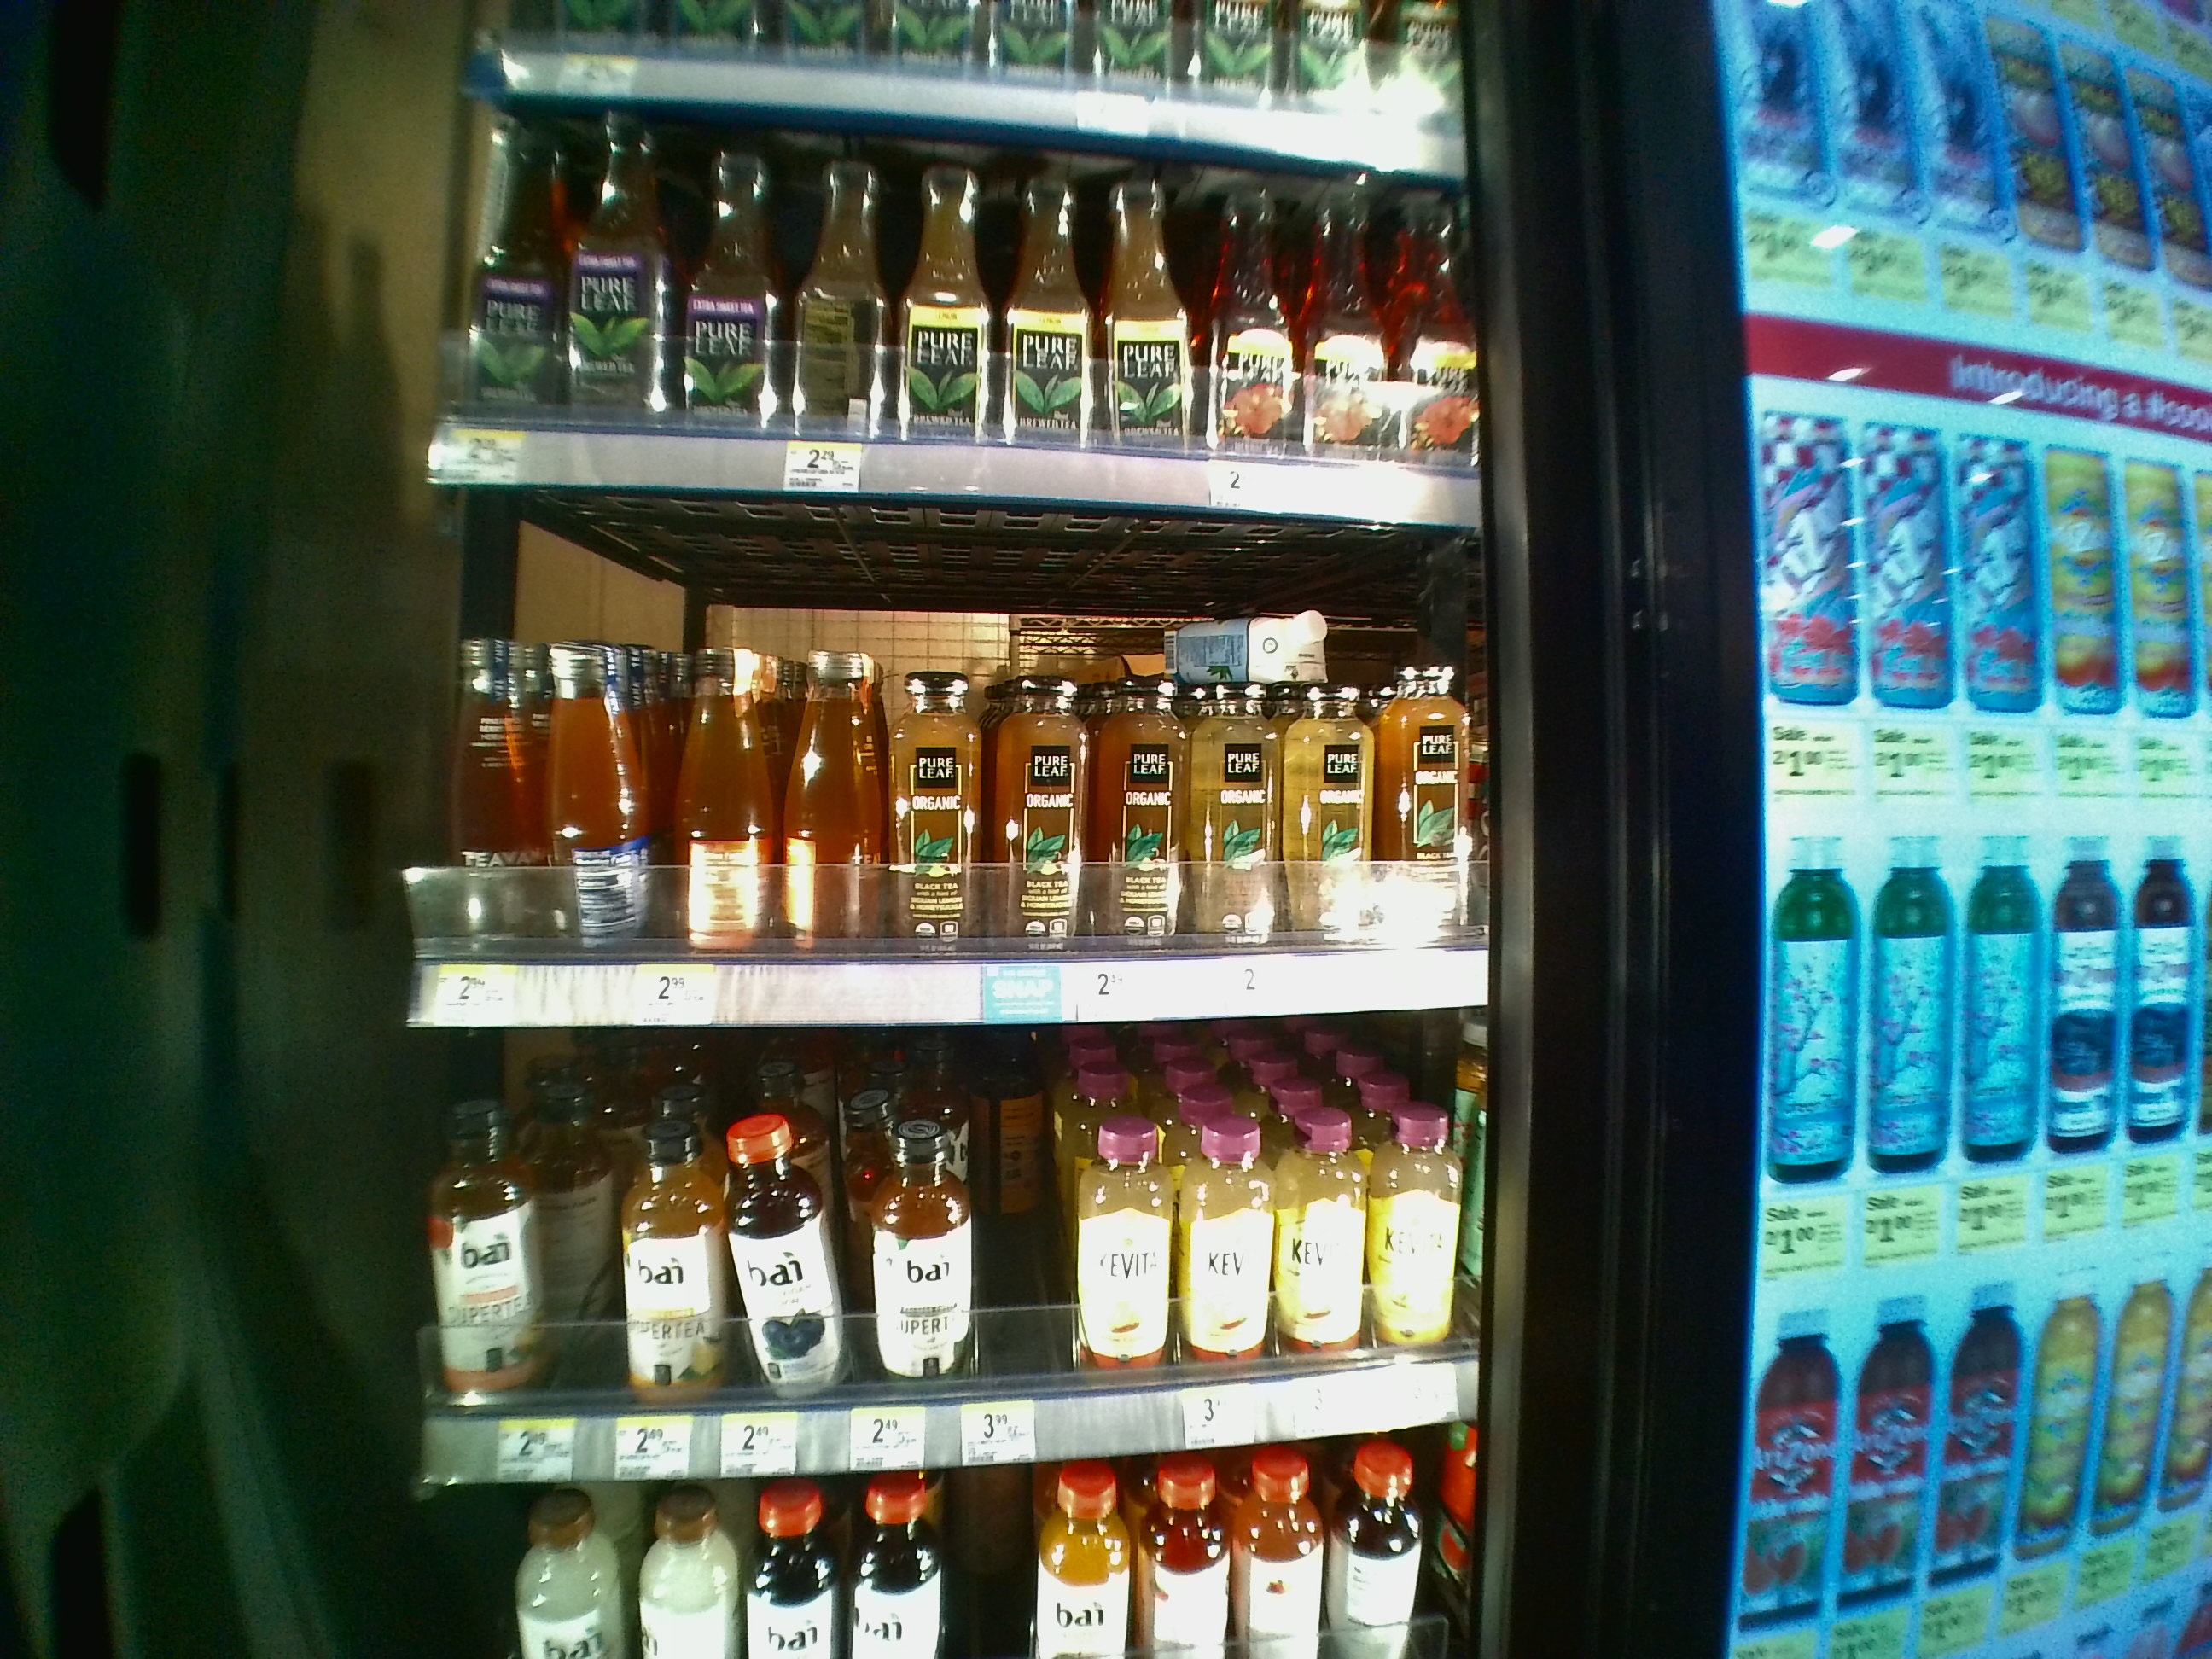shelf: (406, 490, 1489, 1025), (416, 1044, 1498, 1490)
